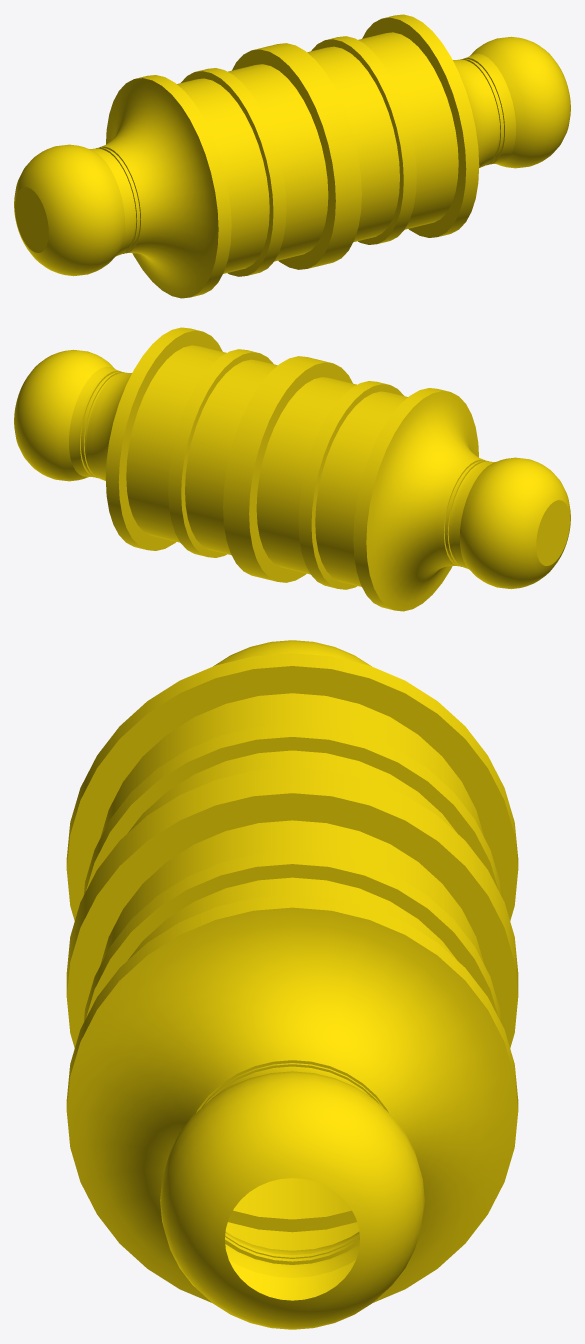
File: SliderTempFix.fbx
3 views of the same model, one above another, from view 1: azimuth 30°, elevation 25°; view 2: azimuth 150°, elevation 25°; view 3: azimuth 270°, elevation 25° (orthographic). The views are drawn at different scales.
Visible parts, largest first — view 1: Group1; view 2: Group1; view 3: Group1.
Boxes of the visible parts, bbox=[...] form: Group1: bbox=[14, 14, 570, 298]; Group1: bbox=[14, 327, 570, 611]; Group1: bbox=[66, 640, 518, 1329].
Bounding box in the file's own units: 40 × 15 × 15.
